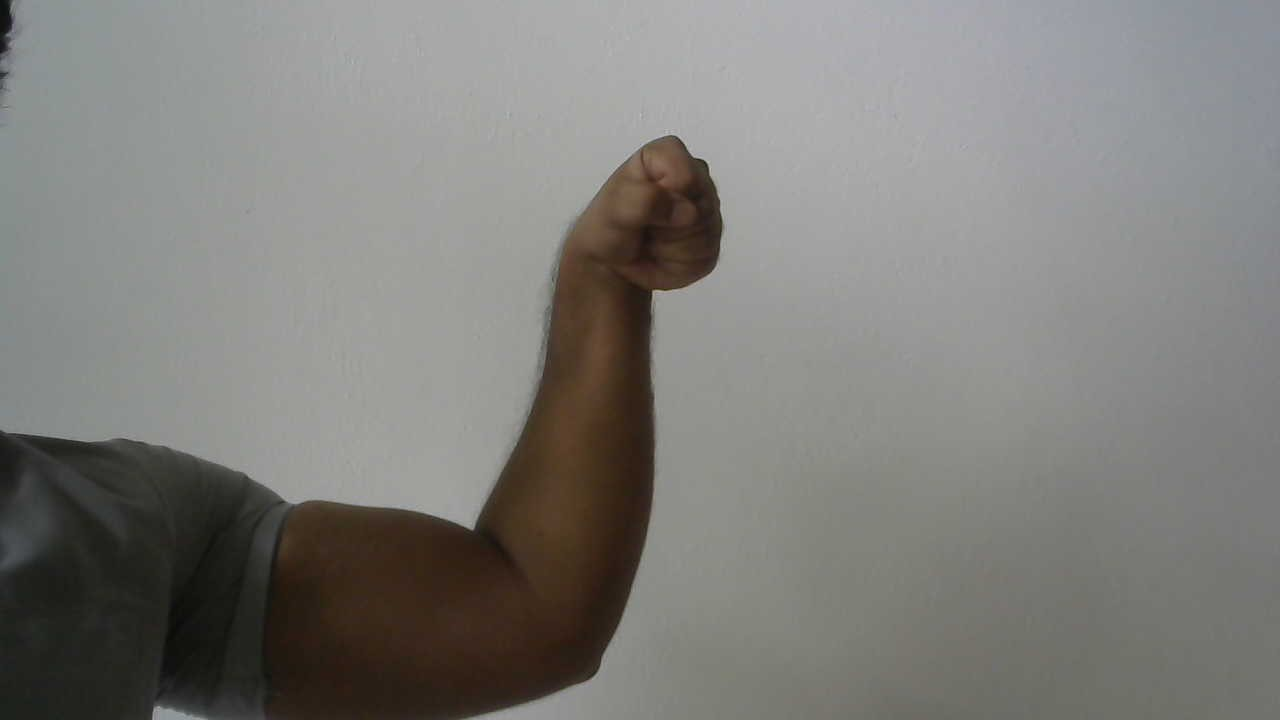yes: (526, 124, 745, 324)
